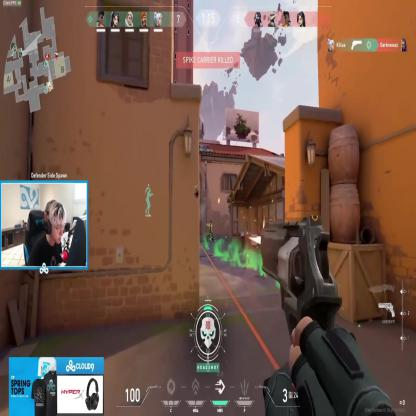enemy: (207, 220, 214, 242)
enemy_head: (210, 220, 212, 225)
